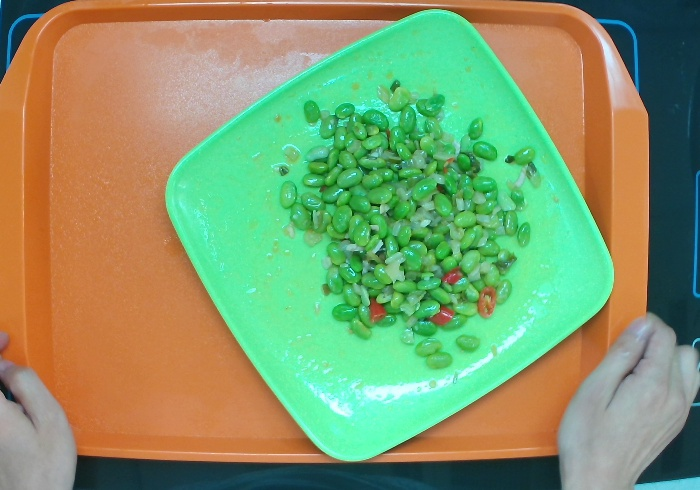ZNLD-Lv_Fang_Pan: (158, 2, 617, 468)
